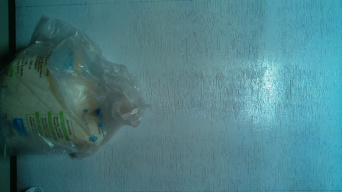m: (1, 39, 119, 153)
